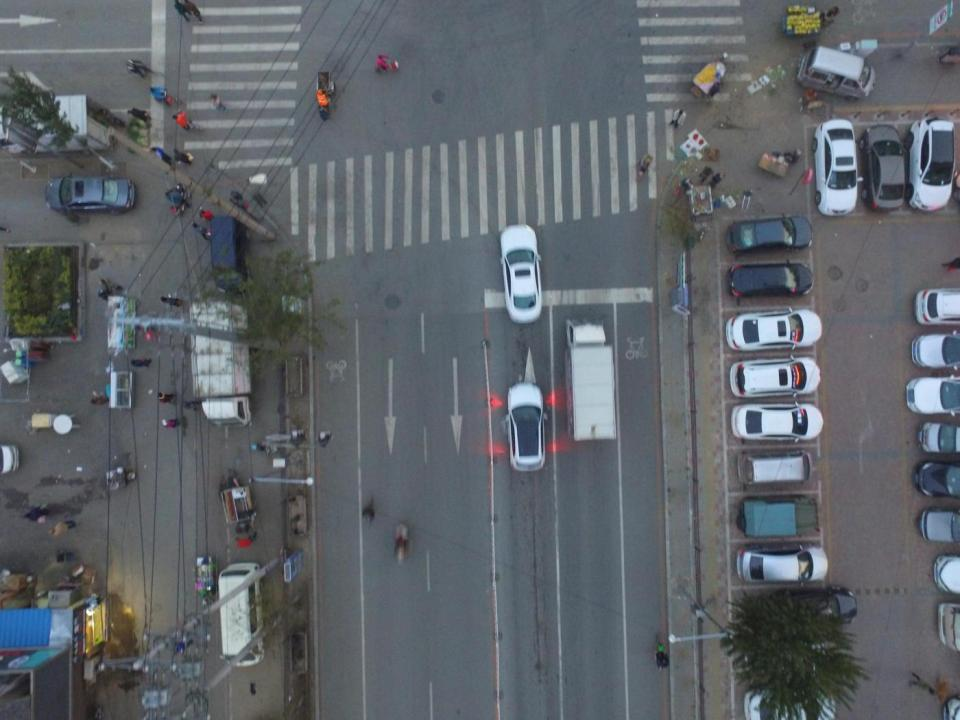car: (812, 119, 867, 217), (905, 116, 955, 212), (725, 305, 823, 352), (764, 584, 860, 631), (498, 224, 542, 326), (859, 122, 907, 213), (731, 354, 819, 400), (731, 399, 824, 442), (505, 384, 550, 472), (727, 257, 817, 298), (727, 212, 812, 254), (736, 548, 828, 586), (45, 175, 135, 213), (744, 688, 838, 720), (905, 373, 960, 416), (908, 330, 960, 371), (914, 459, 960, 499), (914, 288, 960, 323), (919, 506, 960, 544), (917, 420, 960, 456), (930, 552, 960, 591)
truck: (188, 300, 252, 430), (563, 316, 618, 442)
van: (219, 562, 262, 668), (798, 44, 876, 99), (739, 496, 820, 540), (208, 215, 248, 295), (737, 448, 813, 488)
